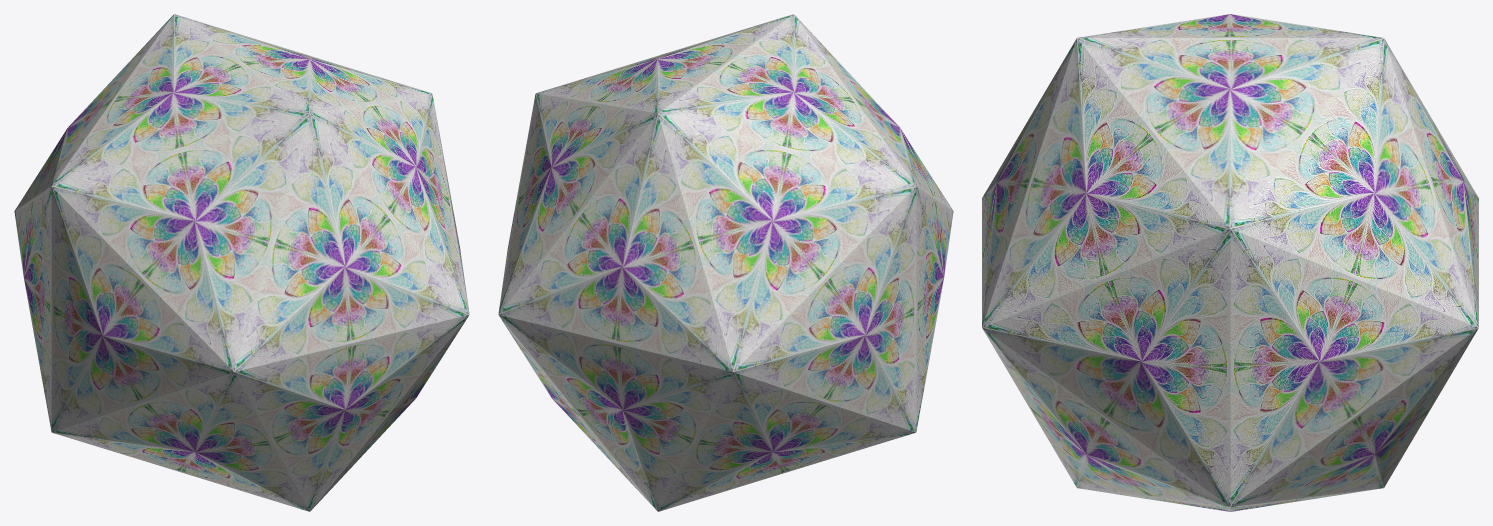
Rendered from TriakisIcosahedron11.obj.
3 renders of one model, left to right at view 1: azimuth 30°, elevation 25°; view 2: azimuth 150°, elevation 25°; view 3: azimuth 270°, elevation 25°, orthographic. The views are drawn at different scales.
Size of the model in its own units: 5.85 by 5.85 by 5.85.
Materials: 1 (1 with a texture image).
